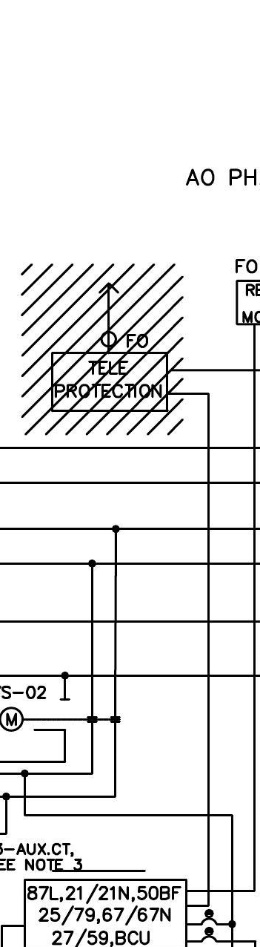tele_protection: (49, 350, 170, 414)
